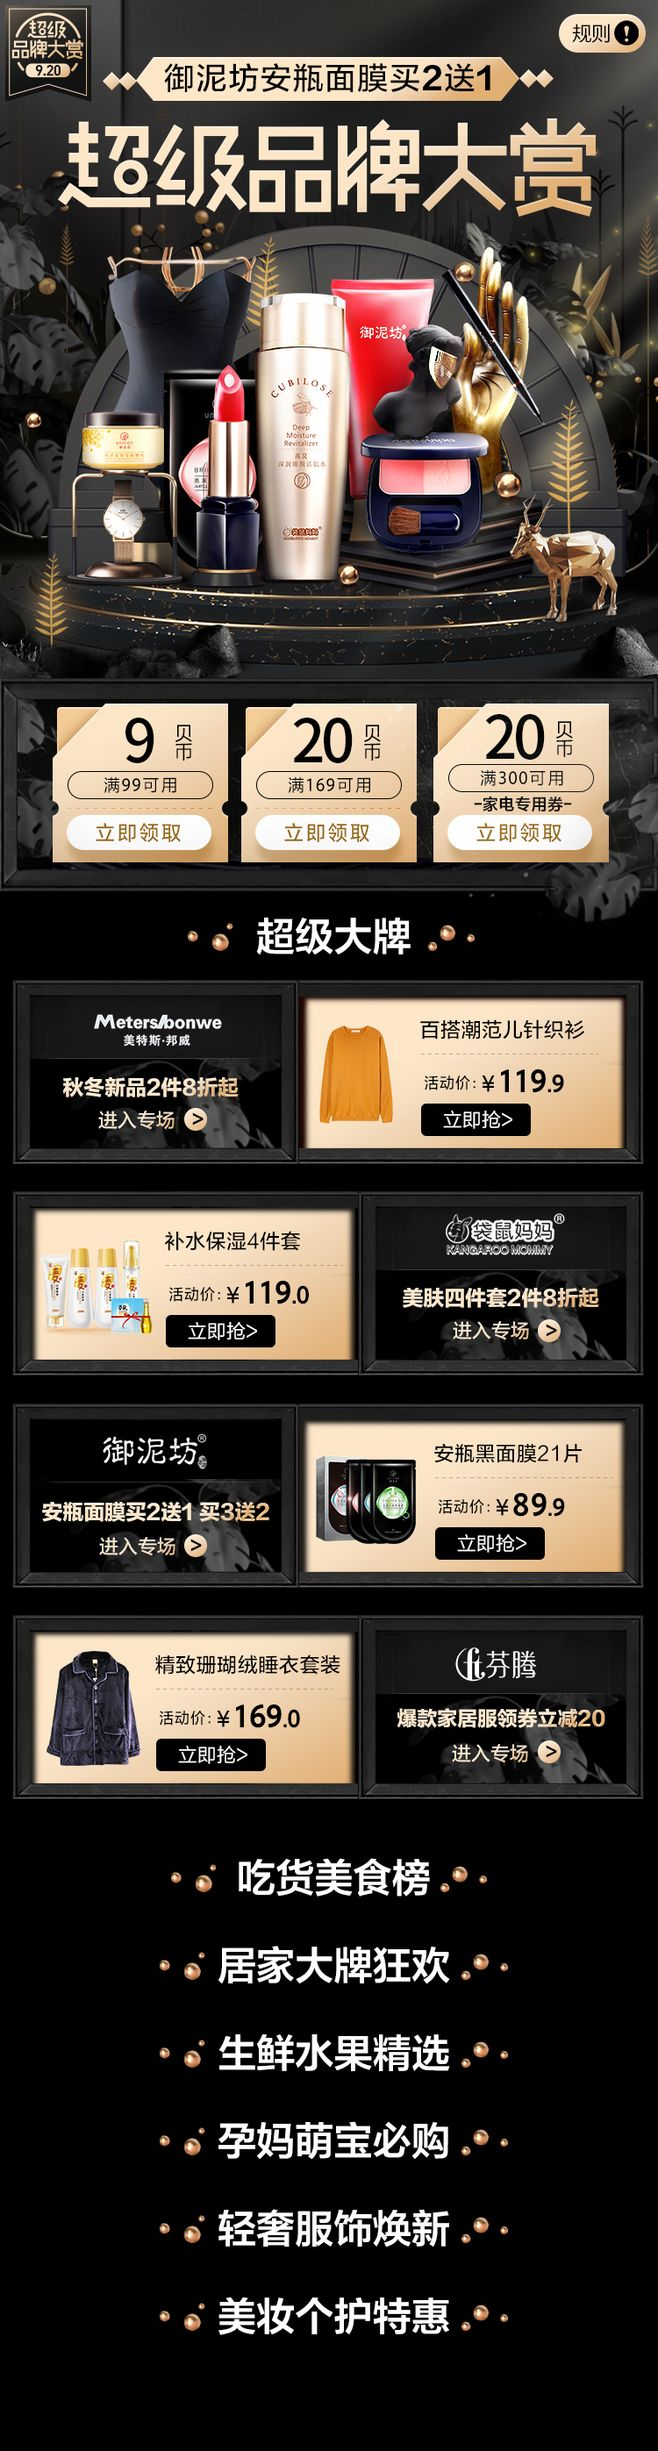floors: (2, 903, 658, 1807), (2, 678, 658, 896)
toutu: (2, 3, 658, 674)
